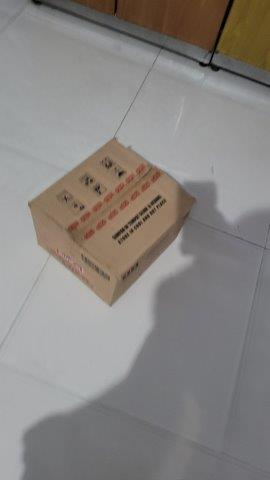kardus: (29, 137, 196, 306)
